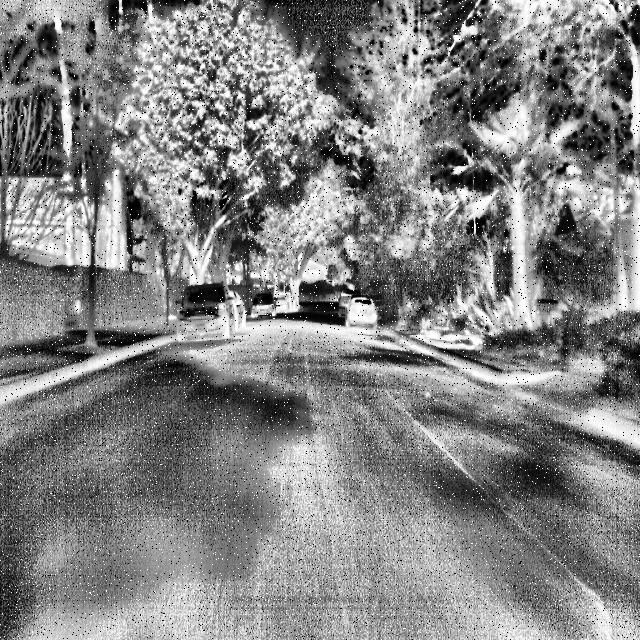car: (178, 276, 250, 346), (245, 271, 298, 325), (339, 292, 385, 346), (338, 284, 362, 315)
